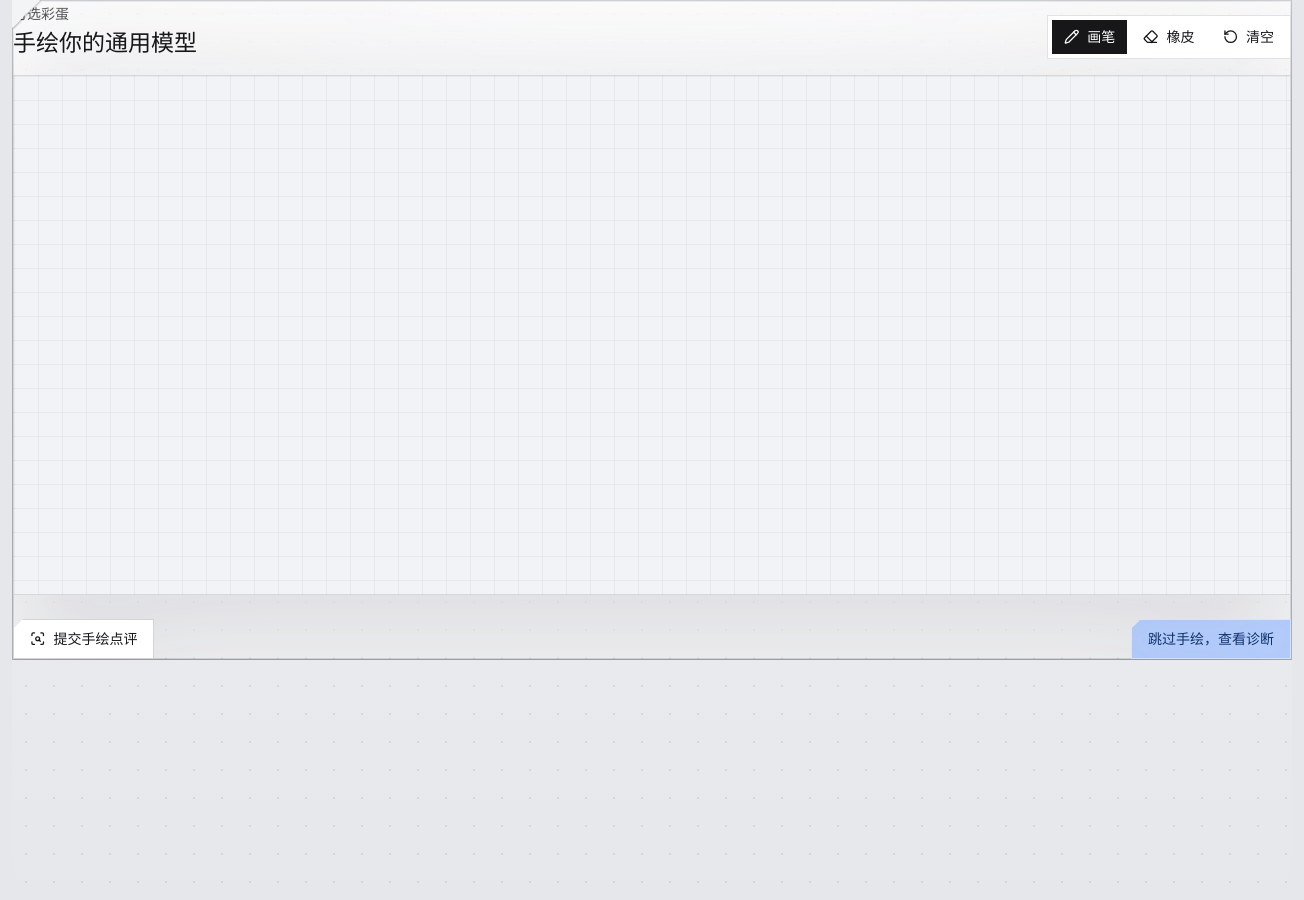
Test case: hand drawing easter egg › sends only image data to the isolated structured reviewer and renders natural-language feedback
The image size is (1304, 900).
What coordinates should you click on to do the following:
click the button "提交手绘点评"
I would click on:
 (84, 639)
Its box is [13,619,154,659].
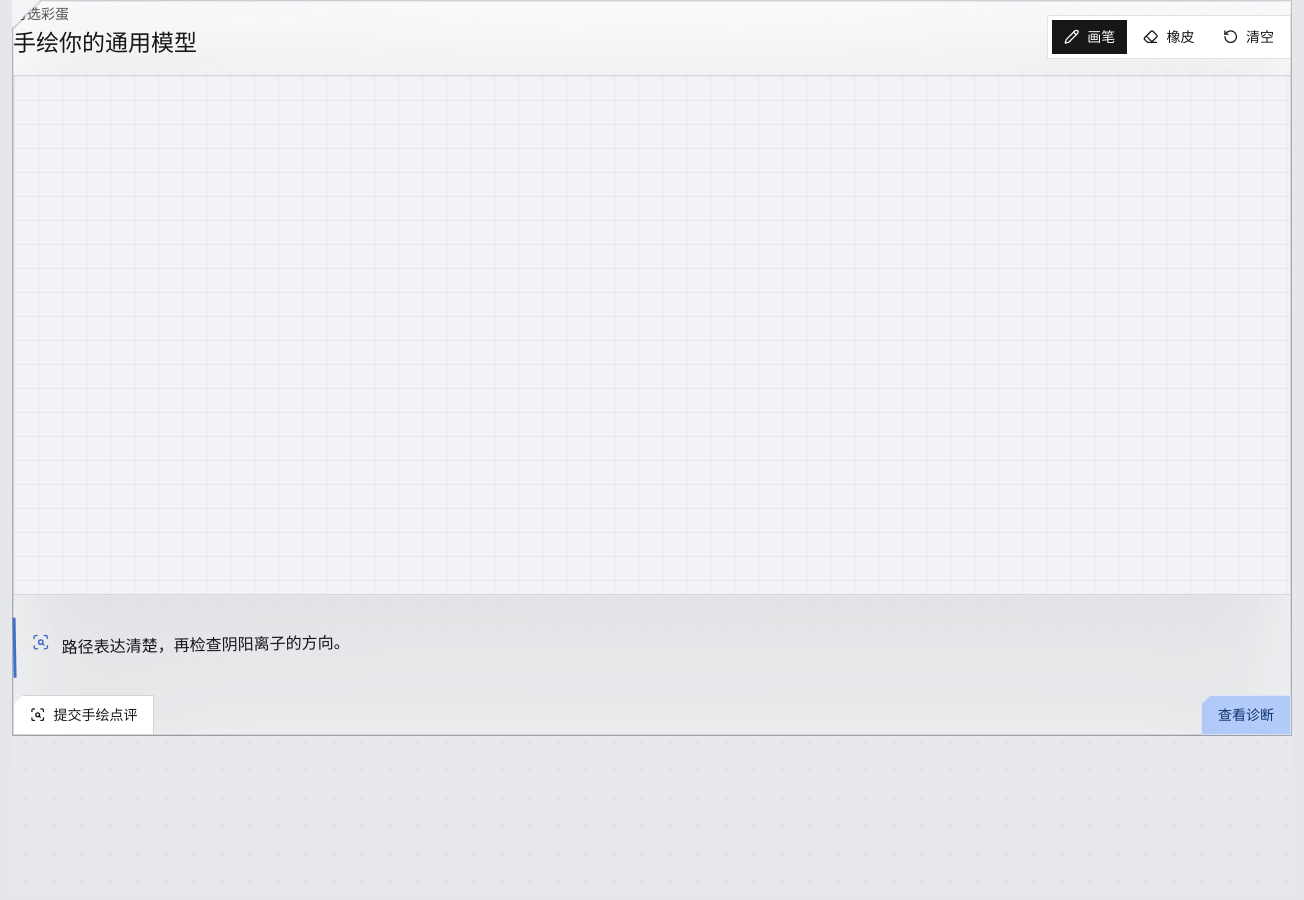
Expected: the text "路径表达清楚，再检查阴阳离子的方向。" is shown, [61,628,350,661]
